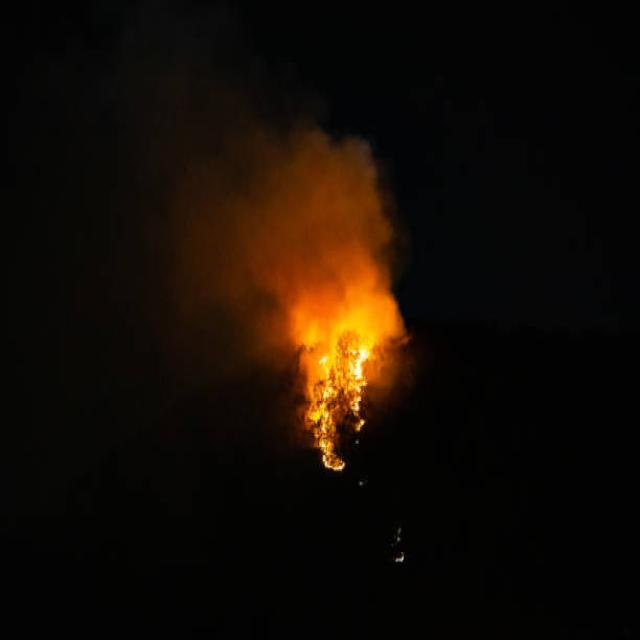Fire: (296, 332, 378, 469)
Smoke: (218, 86, 410, 392)
